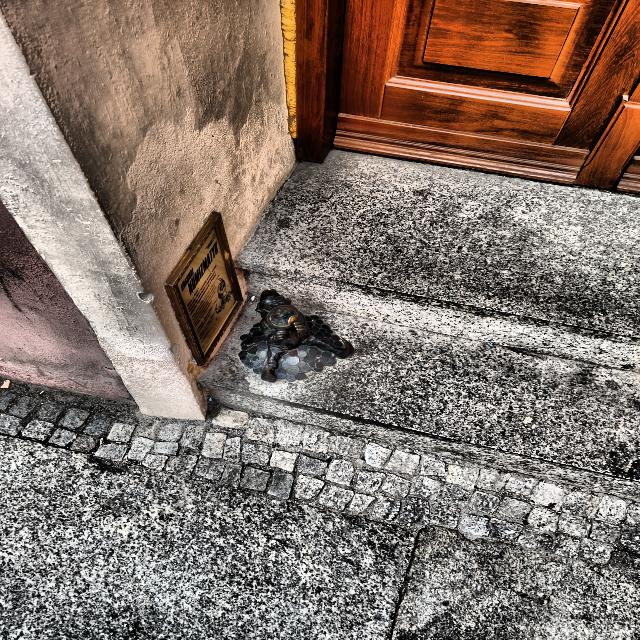Numizmatyk: (238, 289, 353, 382)
